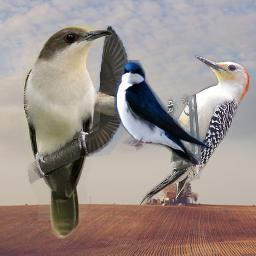Cuckoo: (23, 26, 114, 240)
Swallow: (114, 60, 210, 165), (79, 25, 150, 159)
Woodpecker: (139, 53, 253, 206)
